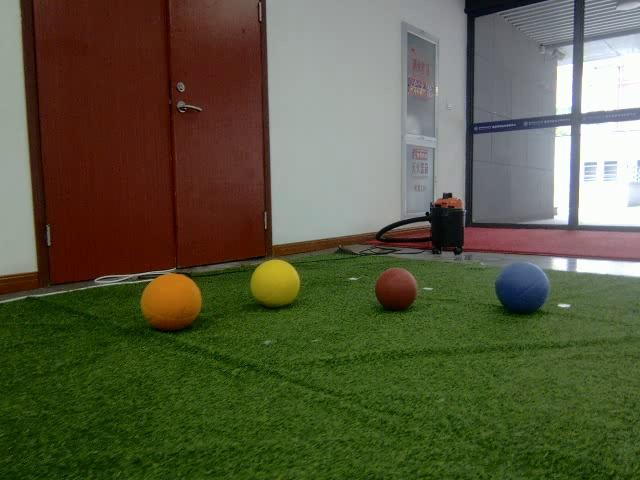blue_ball: (494, 261, 551, 314)
orange_ball: (139, 272, 202, 331)
red_ball: (374, 267, 418, 310)
yellow_ball: (248, 258, 301, 308)
